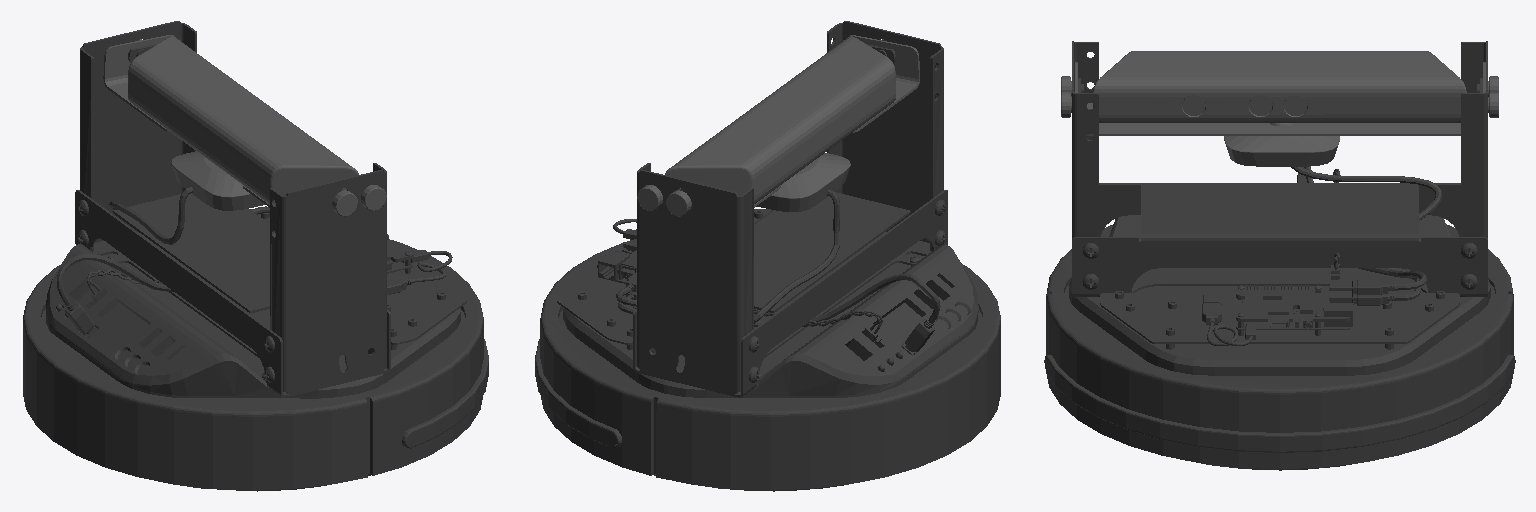
robot.urdf — QBot2e:
<?xml version="1.0" ?>
<robot name="QBot2e">
    <!-- Import Rviz colors -->
    <material name="Black">
        <color rgba="0.0 0.0 0.0 1.0"/>
    </material>
    <material name="Blue">
        <color rgba="0.0 0.0 0.8 1.0"/>
    </material>
    <material name="Green">
        <color rgba="0.0 0.8 0.0 1.0"/>
    </material>
    <material name="Grey">
        <color rgba="0.4 0.4 0.4 1.0"/>
    </material>
    <material name="DarkGrey">
        <color rgba="0.3 0.3 0.3 1.0"/>
    </material>
    <material name="Orange">
        <color rgba="1.0 0.423529411765 0.0392156862745 1.0"/>
    </material>
    <material name="Brown">
        <color rgba="0.870588235294 0.811764705882 0.764705882353 1.0"/>
    </material>
    <material name="Red">
        <color rgba="0.8 0.0 0.0 1.0"/>
    </material>
    <material name="White">
        <color rgba="1.0 1.0 1.0 1.0"/>
    </material>

<!--
    ###################################################################################################################
    Not that all mass/inertial values are examples values only. They are not representative of the actual components.
    ###################################################################################################################
-->
<!--
    <link name="world"/>
    <joint name="world_base_joint" type="fixed">
        <origin rpy="0 0 0" xyz="0 0 0"/>
        <parent link="world"/>
        <child link="base"/>
    </joint>
-->
    <link name="base">
        <visual>
            <origin rpy="0 0 0" xyz="0 0 0"/>
            <geometry>
                <mesh filename="package://qbot2e/meshes/QBot2e_Base.dae"/>
            </geometry>
            <material name="DarkGrey"/>
        </visual>
        <collision>
            <origin rpy="0 0 0" xyz="0 0 0"/>
            <geometry>
                <mesh filename="package://qbot2e/meshes/QBot2e_Base.dae"/>
            </geometry>
        </collision>
        <inertial>
            <origin rpy="0 0 0" xyz="0 0 0"/>
            <mass value="0.1"/>
            <inertia ixx="0.001" ixy="0" ixz="0" iyy="0.001" iyz="0" izz="0.001"/>
        </inertial>
    </link>
    <joint name="base_basecomponent_joint" type="fixed">
        <parent link="base"/>
        <child link="basecomponent"/>
        <origin rpy="0 0 0" xyz="0 0 0"/>
    </joint>
    <link name="basecomponent">
        <visual>
            <origin rpy="0 0 0" xyz="0 0 0"/>
            <geometry>
                <mesh filename="package://qbot2e/meshes/QBot2e_BaseComponents.stl"/>
            </geometry>
            <material name="DarkGrey"/>
        </visual>
        <collision>
            <origin rpy="0 0 0" xyz="0 0 0"/>
            <geometry>
                <mesh filename="package://qbot2e/meshes/QBot2e_BaseComponents.stl"/>
            </geometry>
        </collision>
        <inertial>
            <origin rpy="0 0 0" xyz="0 0 0"/>
            <mass value="0.1"/>
            <inertia ixx="0.001" ixy="0" ixz="0" iyy="0.001" iyz="0" izz="0.001"/>
        </inertial>
    </link>
    <joint name="basecomponent_kinect_joint" type="revolute">
        <parent link="basecomponent"/>
        <child link="kinect"/>
        <origin rpy="0 0 0" xyz="0.014 0 0.248"/>
        <axis xyz="0 1 0"/>
        <limit lower="0" upper="0" effort="300" velocity="0"/>
    </joint>
    <link name="kinect">
        <visual>
            <origin rpy="0 0 0" xyz="0 0 0"/>
            <geometry>
                <mesh filename="package://qbot2e/meshes/QBot2e_Kinect.stl"/>
            </geometry>
            <material name="Grey"/>
        </visual>
        <collision>
            <origin rpy="0 0 0" xyz="0 0 0"/>
            <geometry>
                <mesh filename="package://qbot2e/meshes/QBot2e_Kinect.stl"/>
            </geometry>
        </collision>
        <inertial>
            <origin rpy="0 0 0" xyz="0 0 0"/>
            <mass value="0.1"/>
            <inertia ixx="0.001" ixy="0" ixz="0" iyy="0.001" iyz="0" izz="0.001"/>
        </inertial>
    </link>
    <joint name="base_wheell_joint" type="continuous">
        <parent link="base"/>
        <child link="wheel_left"/>
        <origin rpy="0 0 0" xyz="0.003 0.105 0.034"/>
        <axis xyz="0 1 0"/>
    </joint>
    <link name="wheel_left">
        <visual>
            <origin rpy="0 0 0" xyz="0 0 0"/>
            <geometry>
                <mesh filename="package://qbot2e/meshes/QBot2e_Wheel.stl"/>
            </geometry>
            <material name="Black"/>
        </visual>
        <collision>
            <origin rpy="0 0 0" xyz="0 0 0"/>
            <geometry>
                <mesh filename="package://qbot2e/meshes/QBot2e_Wheel.stl"/>
            </geometry>
        </collision>
        <inertial>
            <origin rpy="0 0 0" xyz="0 0 0"/>
            <mass value="0.1"/>
            <inertia ixx="0.001" ixy="0" ixz="0" iyy="0.001" iyz="0" izz="0.001"/>
        </inertial>
    </link>
    <joint name="base_wheelr_joint" type="continuous">
        <parent link="base"/>
        <child link="wheel_right"/>
        <origin rpy="0 0 3.14" xyz="0.003 -0.105 0.034"/>
        <axis xyz="0 1 0"/>
    </joint>
    <link name="wheel_right">
        <visual>
            <origin rpy="0 0 0" xyz="0 0 0"/>
            <geometry>
                <mesh filename="package://qbot2e/meshes/QBot2e_Wheel.stl"/>
            </geometry>
            <material name="Black"/>
        </visual>
        <collision>
            <origin rpy="0 0 0" xyz="0 0 0"/>
            <geometry>
                <mesh filename="package://qbot2e/meshes/QBot2e_Wheel.stl"/>
            </geometry>
        </collision>
        <inertial>
            <origin rpy="0 0 0" xyz="0 0 0"/>
            <mass value="0.1"/>
            <inertia ixx="0.001" ixy="0" ixz="0" iyy="0.001" iyz="0" izz="0.001"/>
        </inertial>
    </link>

<!--
    <gazebo>
        <plugin filename="lib/libgazebo_ros_control.so" name="gazebo_ros_control">
            <robotNamespace>/qbot2e</robotNamespace>
        </plugin>
    </gazebo>
-->
    <gazebo reference="base">
        <material>Gazebo/DarkGrey</material>
        <!--
        <material>
            <script>
                <name>QBot2e_BaseMaterial</name>
                <uri>model://qbot2e/media/materials/scripts</uri>
                <uri>model://qbot2e/media/materials/textures</uri>
            </script>
        </material>
        -->
    </gazebo>
    <gazebo reference="basecomponent">
        <material>Gazebo/DarkGrey</material>
    </gazebo>
    <gazebo reference="kinect">
        <material>Gazebo/Grey</material>
    </gazebo>
    <gazebo reference="wheel_left">
        <material>Gazebo/Black</material>
    </gazebo>
    <gazebo reference="wheel_right">
        <material>Gazebo/Black</material>
    </gazebo>
    <transmission name="wheelr_tran">
        <robotNamespace>/qbot2e</robotNamespace>
        <type>transmission_interface/SimpleTransmission</type>
        <joint name="base_wheelr_joint">
            <hardwareInterface>PositionJointInterface</hardwareInterface>
        </joint>
        <actuator name="wheelr_motor">
            <hardwareInterface>PositionJointInterface</hardwareInterface>
            <mechanicalReduction>1</mechanicalReduction>
        </actuator>
    </transmission>
    <transmission name="wheell_tran">
        <robotNamespace>/qbot2e</robotNamespace>
        <type>transmission_interface/SimpleTransmission</type>
        <joint name="base_wheell_joint">
            <hardwareInterface>PositionJointInterface</hardwareInterface>
        </joint>
        <actuator name="wheell_motor">
            <hardwareInterface>PositionJointInterface</hardwareInterface>
            <mechanicalReduction>1</mechanicalReduction>
        </actuator>
    </transmission>
</robot>

--- Render facts (derived) ---
3 views of the same robot in one strip: view 1: azimuth 30°, elevation 25°; view 2: azimuth 150°, elevation 25°; view 3: azimuth 270°, elevation 25° (orthographic).
Model QBot2e with 5 links and 4 joints (1 revolute, 2 continuous, 1 fixed), rooted at base, posed all joints at 0.
Links seen in each view (by area): view 1: base, basecomponent, kinect; view 2: base, basecomponent, kinect; view 3: basecomponent, base, kinect.
Link boxes in pixels (x1,y1,x2,y2): base: (23,240,488,491); basecomponent: (57,21,466,397); kinect: (103,35,386,216); base: (535,240,1000,491); basecomponent: (557,21,947,397); kinect: (637,35,919,216); basecomponent: (1072,41,1487,349); base: (1044,215,1515,470); kinect: (1061,51,1498,166).
Size in the robot's own frame: 0.3541 by 0.3518 by 0.2682 metres.
Meshes: 4 distinct files referenced, 5 mesh visuals loaded (3 binary STL, 1 Collada DAE).
